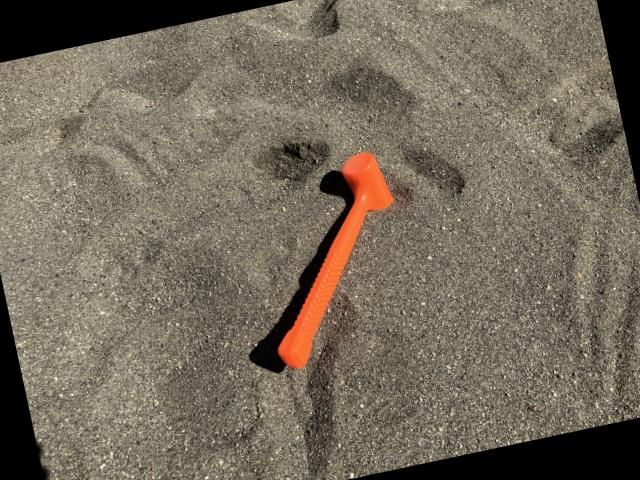hammer: (239, 148, 426, 374)
